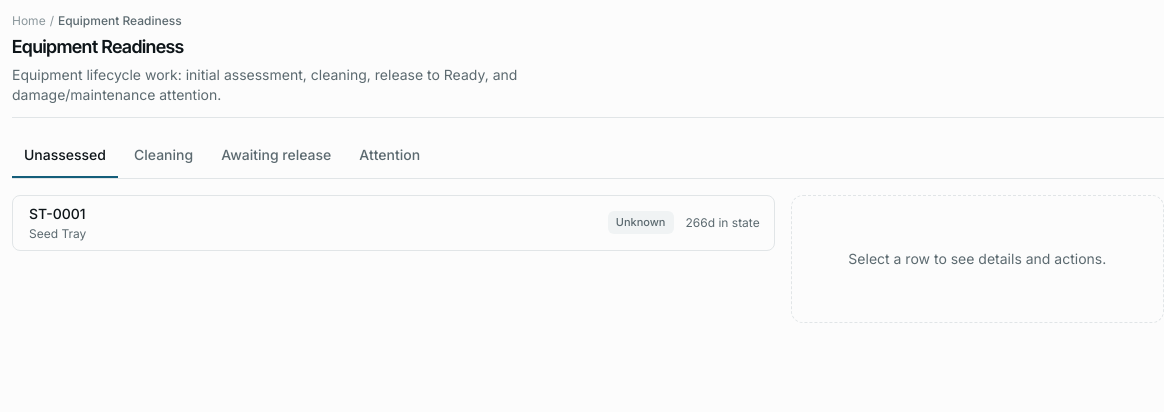
Test: EquipmentCleaningQueuePage: durable views over the real lifecycle states › non-cleaning UNKNOWN row's inspector offers Mark Ready
Click the button "ST-0001 Seed Tray" at coordinates (57, 213), box [29,204,596,242]
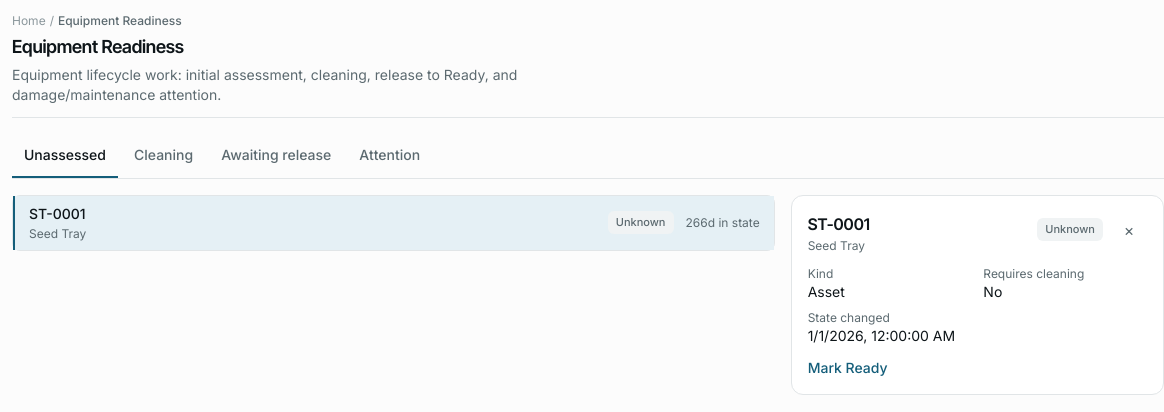
Now the link "Mark Ready" is shown, box [808,358,888,376]
